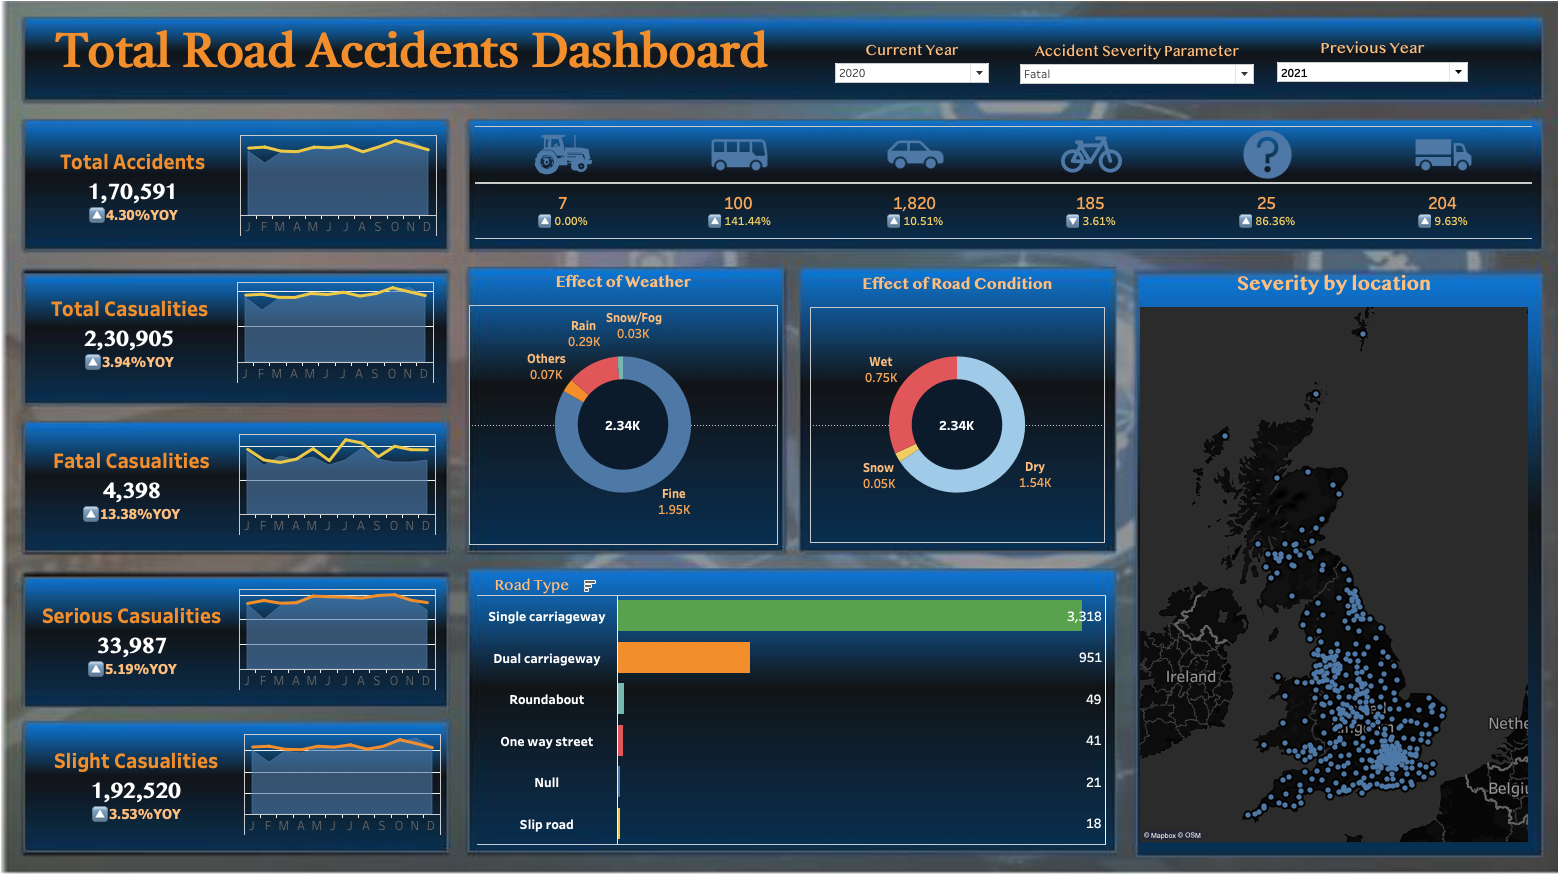

The dashboard page shown, as its layout file describes it:
{"tool":"tableau","page":{"name":"Dashboard 1","canvas":[1600,900],"ordinal":0},"visuals":[{"type":"image","param":"/Users/ashishpathak/Downloads/JEE advance 2023 - Chemistry.jpg","box":[8,8,1584,884]},{"type":"text","box":[40,26,765,80]},{"type":"parameter","param":"[Parameters].[Current Year (copy)_270427091206885377]","box":[1285,50,197,46]},{"type":"parameter","param":"[Parameters].[Parameter 1]","box":[843,53,160,44]},{"type":"parameter","param":"[Parameters].[Accident Severity Parameter]","box":[1028,54,240,44]},{"type":"worksheet","title":"vehicle type images","mark":"Shape","box":[486,137,1057,57]},{"type":"worksheet","title":"Total Accidents","mark":"Automatic","box":[42,142,205,110]},{"type":"worksheet","title":"Accident Sparkline","mark":"Automatic","rows":["CY Accidents (copy)_270427091208642563","Calculation_270427091207352322"],"cols":["Accident Date"],"box":[247,142,205,110]},{"type":"worksheet","title":"group vehicles data","mark":"Automatic","box":[486,194,1057,56]},{"type":"text","box":[476,275,317,37]},{"type":"worksheet","title":"Severity by location","mark":"Automatic","rows":["Latitude"],"cols":["Longitude"],"box":[1151,279,388,574]},{"type":"text","box":[817,282,303,27]},{"type":"worksheet","title":"Total Casulaties","mark":"Automatic","box":[39,289,205,110]},{"type":"worksheet","title":"Total Casulaities Sparkline ","mark":"Automatic","rows":["CY casualities (copy)_270427091215183878","Calculation_270427091214139397"],"cols":["Accident Date"],"box":[244,289,205,110]},{"type":"worksheet","title":"Weather Condition","mark":"Pie","rows":["Calculation_92464537545379842","Calculation_92464537545408516"],"box":[476,312,317,248]},{"type":"worksheet","title":"Road Surface Condition","mark":"Pie","rows":["Calculation_92464537545379842","Calculation_92464537545408516"],"box":[817,314,303,244]},{"type":"worksheet","title":"Fatal Casulaties","mark":"Automatic","box":[41,441,205,110]},{"type":"worksheet","title":"Fatal Casulaities Sparkline ","mark":"Automatic","rows":["CY Fatal Casualities (copy)_270427091235319817","Calculation_270427091234340872"],"cols":["Accident Date"],"box":[246,441,205,110]},{"type":"worksheet","title":"Road Type","mark":"Bar","rows":["Road_Type"],"box":[484,582,638,278]},{"type":"worksheet","title":"Serious Casulaties","mark":"Automatic","box":[41,596,205,110]},{"type":"worksheet","title":"Serious Casulaities Sparkline","mark":"Automatic","rows":["PY Fatal Casualities (copy)_270427091236225036","CY Fatal Casualities (copy)_270427091235860491"],"cols":["Accident Date"],"box":[246,596,205,110]},{"type":"worksheet","title":"Slight Casulaties","mark":"Automatic","box":[46,741,205,110]},{"type":"worksheet","title":"Slight Casulaities Sparkline","mark":"Automatic","rows":["PY Slight Casualities (copy)_270427091237228559","CY Serious Casualities (copy)_270427091236745230"],"cols":["Accident Date"],"box":[251,741,205,110]}]}

Visuals, with their boxes in screenshot pixels (x1, y1, x2, y2), scaled from the page's 1600x900 canvas onto the 1561x875 screenshot:
image: {"x1": 8, "y1": 8, "x2": 1553, "y2": 867}
text: {"x1": 39, "y1": 25, "x2": 785, "y2": 103}
parameter: {"x1": 1254, "y1": 49, "x2": 1446, "y2": 93}
parameter: {"x1": 822, "y1": 52, "x2": 979, "y2": 94}
parameter: {"x1": 1003, "y1": 52, "x2": 1237, "y2": 95}
"vehicle type images" worksheet (Shape marks): {"x1": 474, "y1": 133, "x2": 1505, "y2": 189}
"Total Accidents" worksheet: {"x1": 41, "y1": 138, "x2": 241, "y2": 245}
"Accident Sparkline" worksheet: {"x1": 241, "y1": 138, "x2": 441, "y2": 245}
"group vehicles data" worksheet: {"x1": 474, "y1": 189, "x2": 1505, "y2": 243}
text: {"x1": 464, "y1": 267, "x2": 774, "y2": 303}
"Severity by location" worksheet: {"x1": 1123, "y1": 271, "x2": 1501, "y2": 829}
text: {"x1": 797, "y1": 274, "x2": 1093, "y2": 300}
"Total Casulaties" worksheet: {"x1": 38, "y1": 281, "x2": 238, "y2": 388}
"Total Casulaities Sparkline " worksheet: {"x1": 238, "y1": 281, "x2": 438, "y2": 388}
"Weather Condition" worksheet (Pie marks): {"x1": 464, "y1": 303, "x2": 774, "y2": 544}
"Road Surface Condition" worksheet (Pie marks): {"x1": 797, "y1": 305, "x2": 1093, "y2": 542}
"Fatal Casulaties" worksheet: {"x1": 40, "y1": 429, "x2": 240, "y2": 536}
"Fatal Casulaities Sparkline " worksheet: {"x1": 240, "y1": 429, "x2": 440, "y2": 536}
"Road Type" worksheet (Bar marks): {"x1": 472, "y1": 566, "x2": 1095, "y2": 836}
"Serious Casulaties" worksheet: {"x1": 40, "y1": 579, "x2": 240, "y2": 686}
"Serious Casulaities Sparkline" worksheet: {"x1": 240, "y1": 579, "x2": 440, "y2": 686}
"Slight Casulaties" worksheet: {"x1": 45, "y1": 720, "x2": 245, "y2": 827}
"Slight Casulaities Sparkline" worksheet: {"x1": 245, "y1": 720, "x2": 445, "y2": 827}
